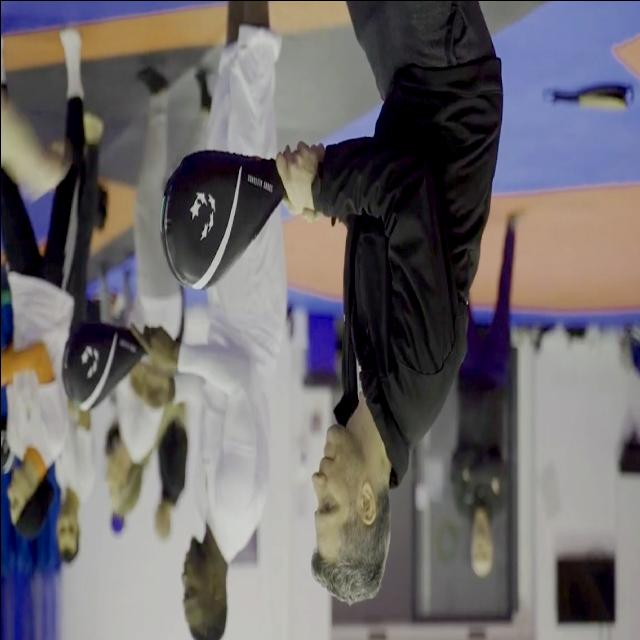paddle: (288, 0, 504, 612), (156, 142, 288, 298), (59, 322, 148, 416)
